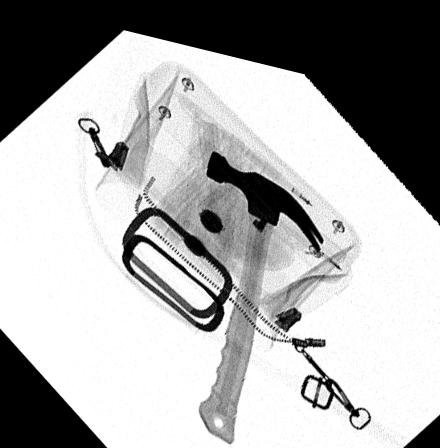Hammer: (197, 140, 324, 434)
